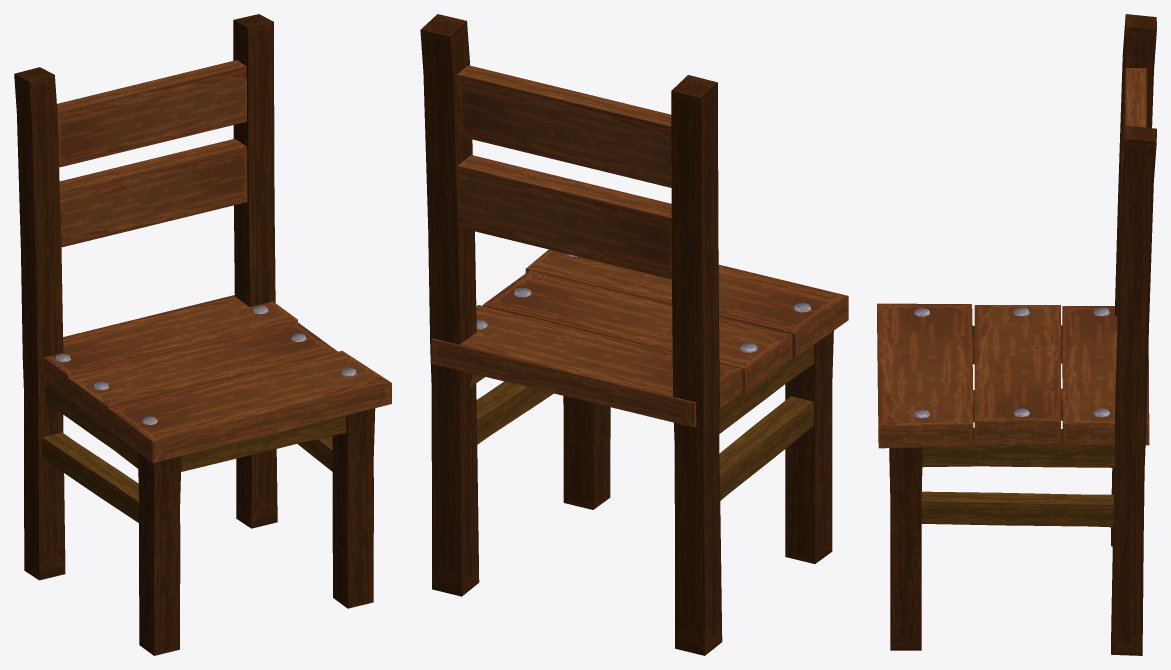
File: Chair_1.gltf
3 views of the same model, side by side, from view 1: azimuth 30°, elevation 25°; view 2: azimuth 150°, elevation 25°; view 3: azimuth 270°, elevation 25° (orthographic). The views are drawn at different scales.
Visible parts, largest first — view 1: Chair_1; view 2: Chair_1; view 3: Chair_1.
Boxes of the visible parts, x1,y1,x2,y2 form: Chair_1: (14,14,391,655); Chair_1: (420,14,848,655); Chair_1: (877,14,1156,655).
Bounding box in the file's own units: 0.5805 × 1.12 × 0.5489.
Materials: 2 (2 with a texture image).
